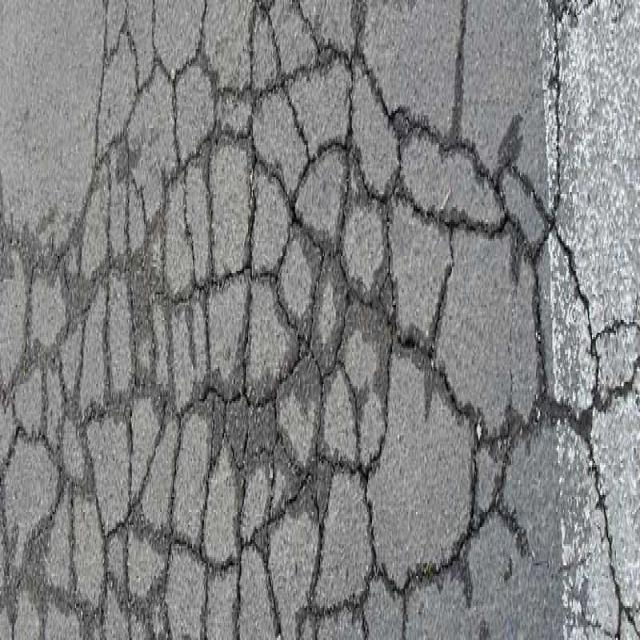Drain Hole: (8, 130, 575, 611)
